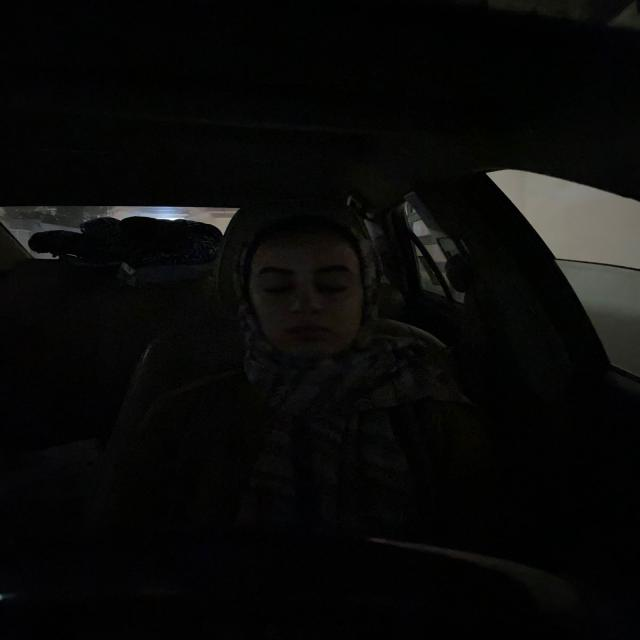drowsy: (232, 210, 375, 366)
